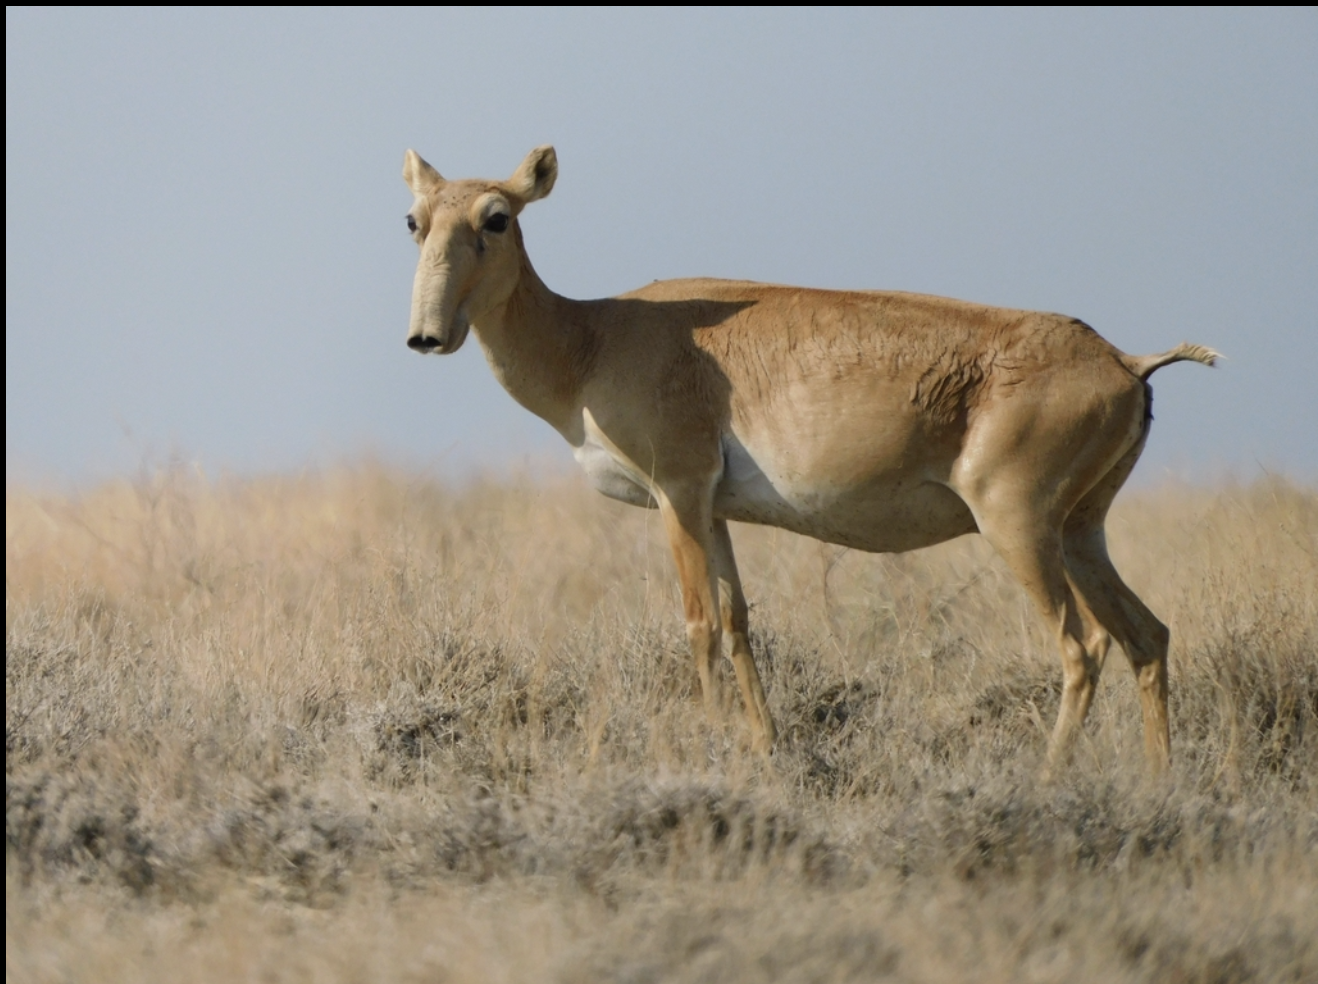saiga: (365, 132, 1209, 773)
